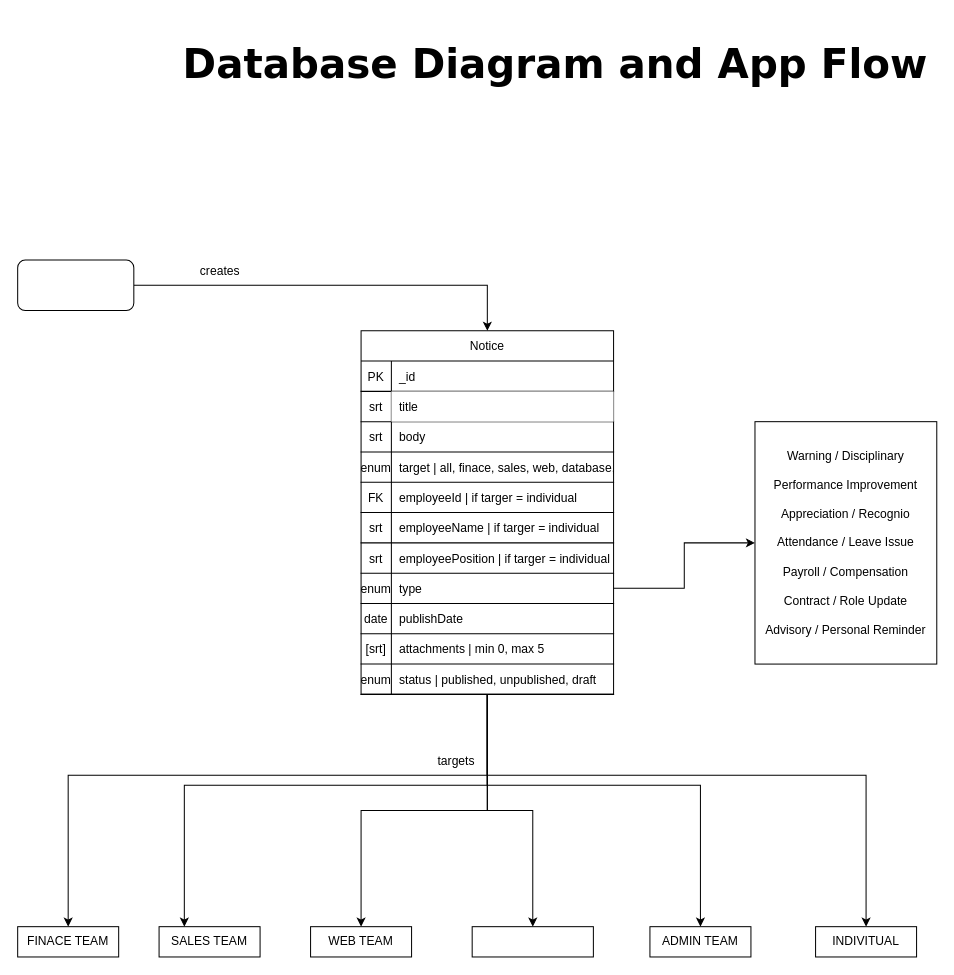
Image size: 954x975. Some labels were removed from this diagram. Each missing label, with the centre of its shape:
ADMIN: the point at 75,285
DATABASE TEAM: the point at 532,941
